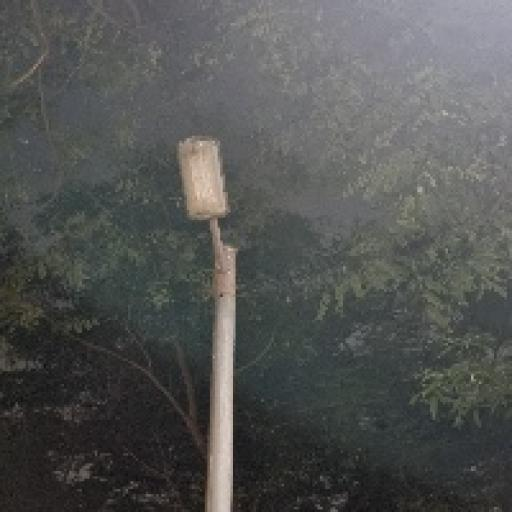Not Working: (166, 122, 251, 233)
